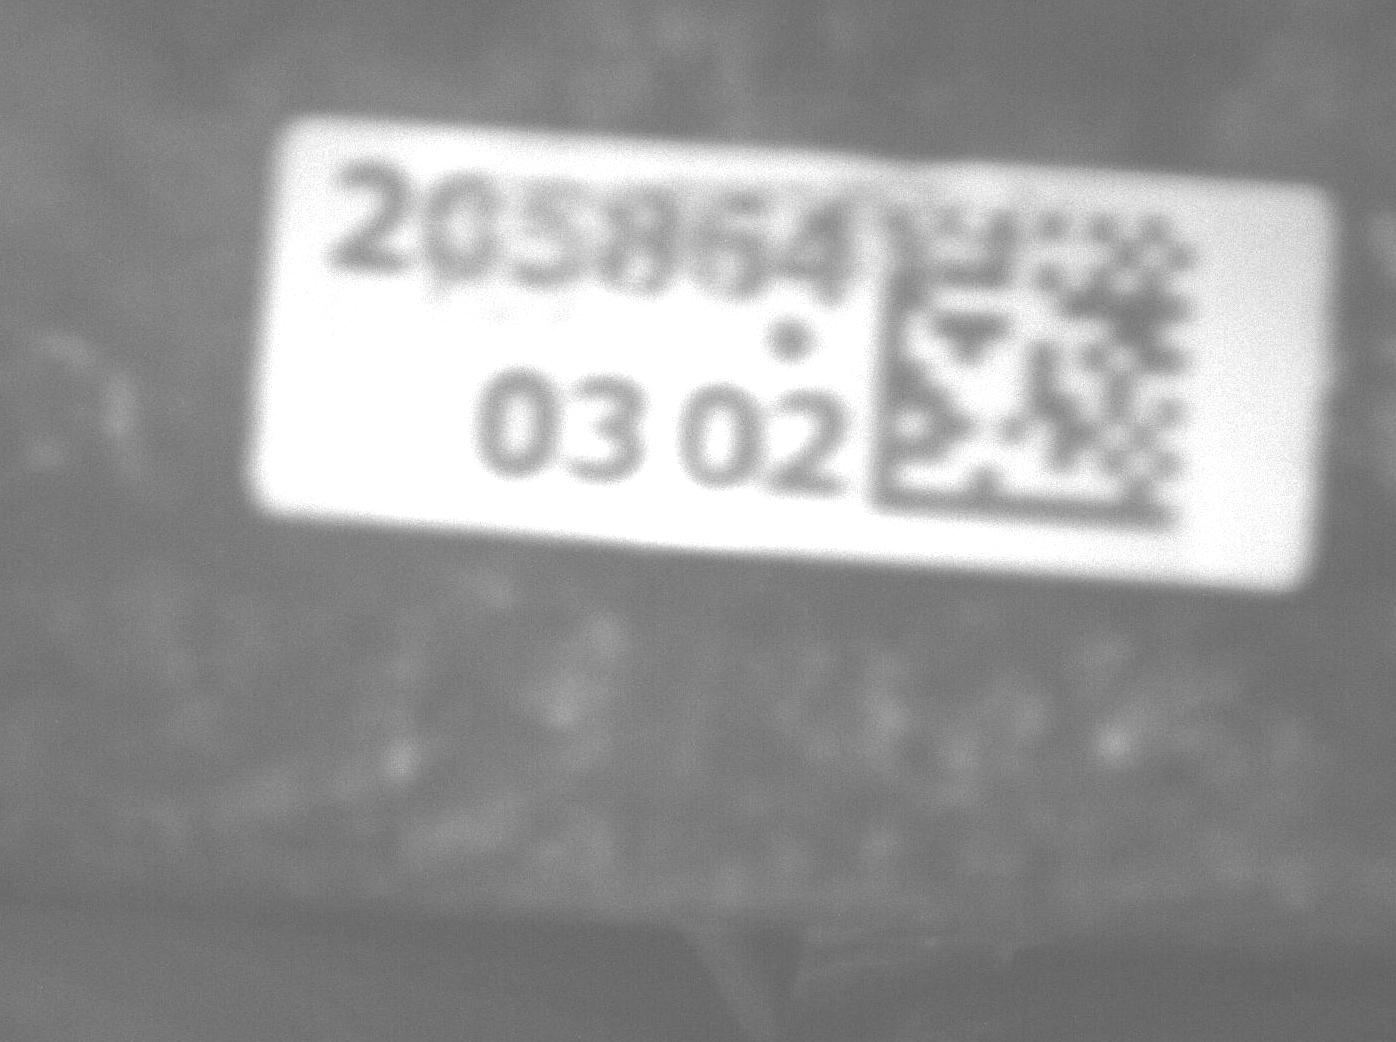data matrix: (853, 172, 1215, 548)
